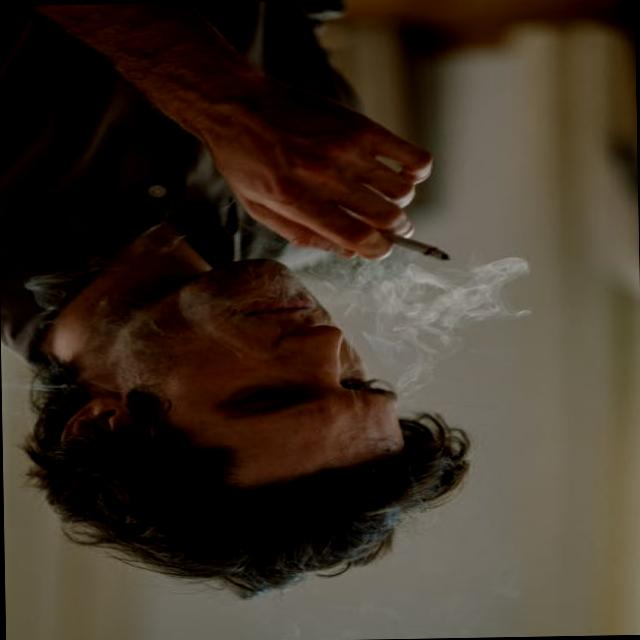cigarette: (368, 223, 452, 268)
